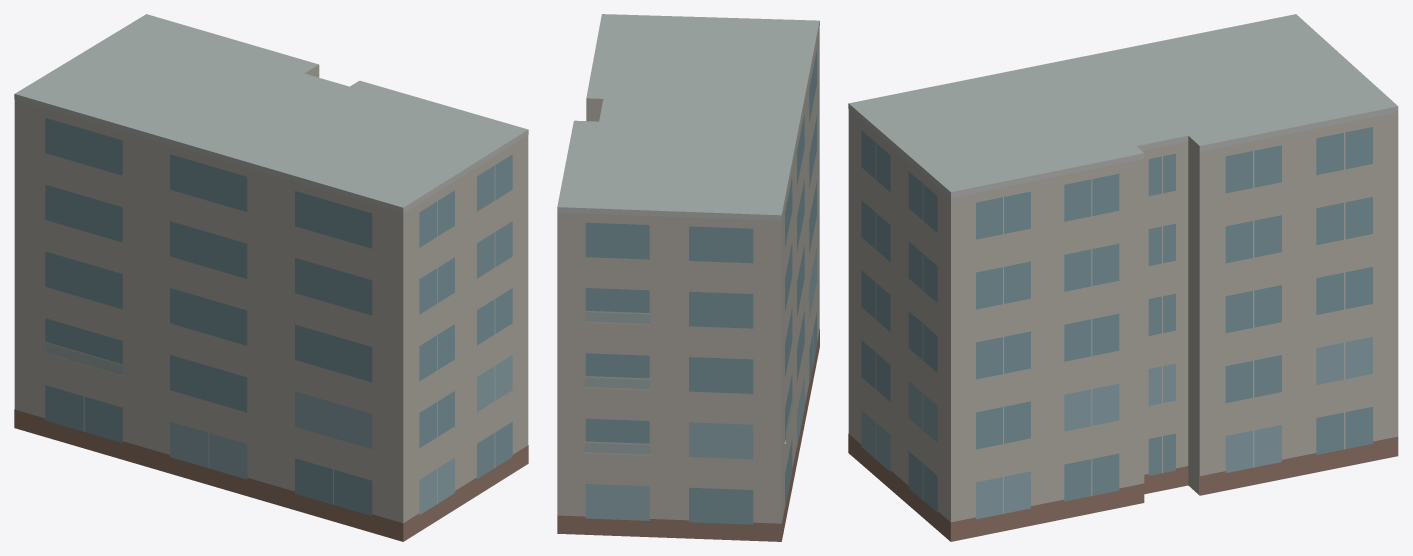
Rendered from survey-upis-32697616.glb.
The picture shows the model from 3 angles, left to right: view 1: azimuth 30°, elevation 25°; view 2: azimuth 150°, elevation 25°; view 3: azimuth 270°, elevation 25°; orthographic projection. The views are drawn at different scales.
Parts seen in each view (by area): view 1: survey-upis-32697616.tmp; view 2: survey-upis-32697616.tmp; view 3: survey-upis-32697616.tmp.
Part boxes in pixels (x1,y1,x2,y2): survey-upis-32697616.tmp: [14, 14, 528, 541]; survey-upis-32697616.tmp: [557, 14, 819, 541]; survey-upis-32697616.tmp: [848, 14, 1398, 541].
Size of the model in its own units: 16.02 by 14.65 by 20.88.
